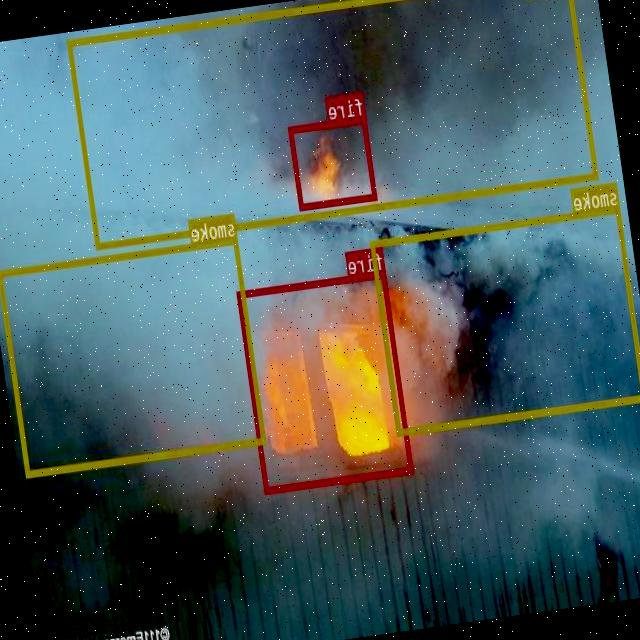fire: (238, 270, 414, 492), (289, 115, 378, 209)
smoke: (68, 0, 599, 248), (0, 236, 267, 477), (371, 205, 640, 434)
